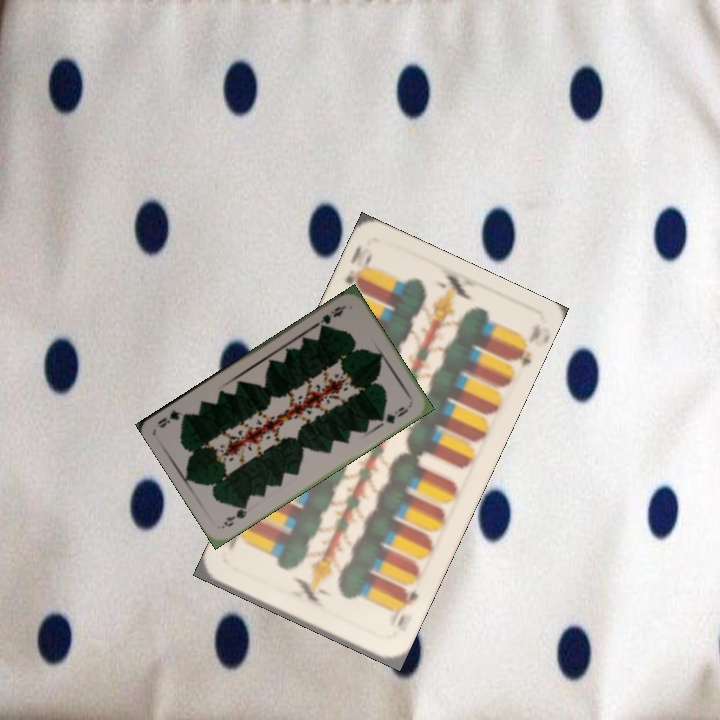E10: (341, 240, 375, 295), (386, 584, 422, 629)
G9: (313, 301, 349, 332), (218, 501, 250, 530)
